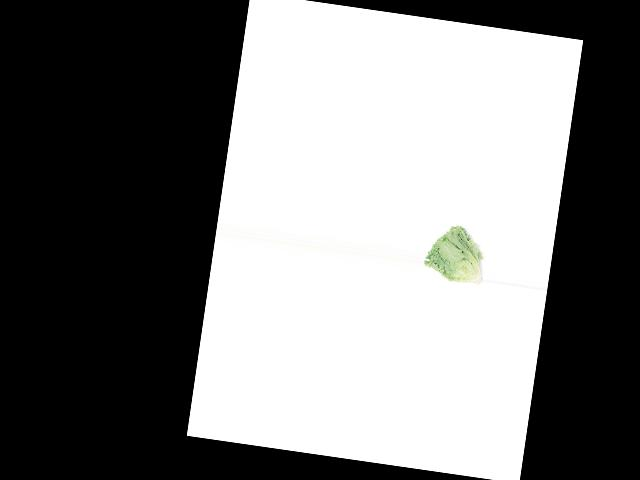lettuce: (421, 216, 491, 290)
